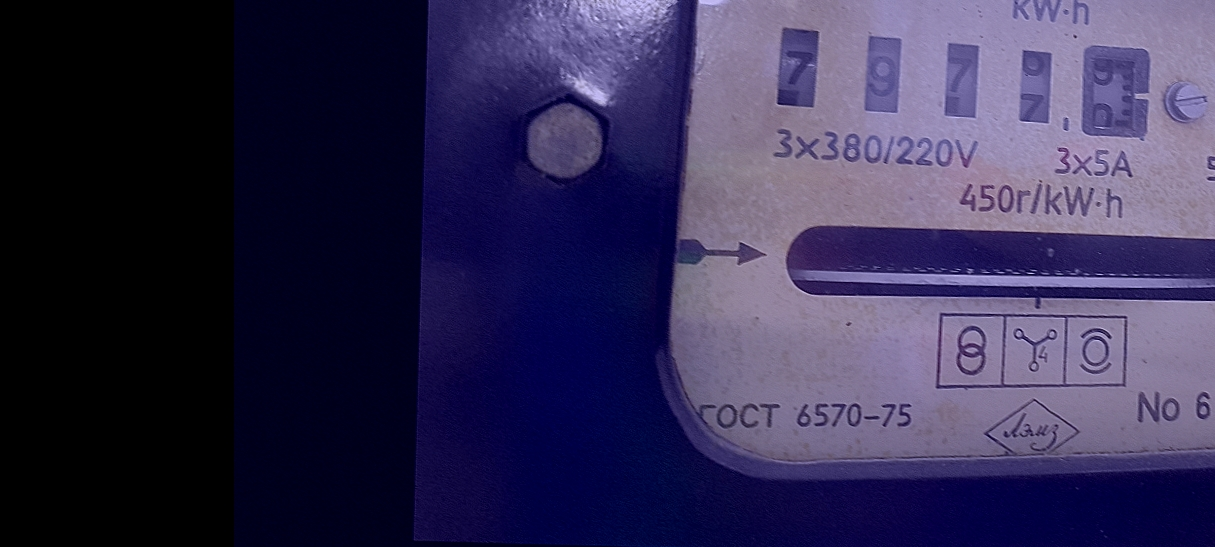0: (1090, 99, 1114, 129)
7: (781, 45, 816, 91), (1018, 85, 1049, 127), (946, 54, 976, 96)
9: (867, 52, 899, 100), (1090, 56, 1121, 89)
screen: (764, 15, 1168, 153)
